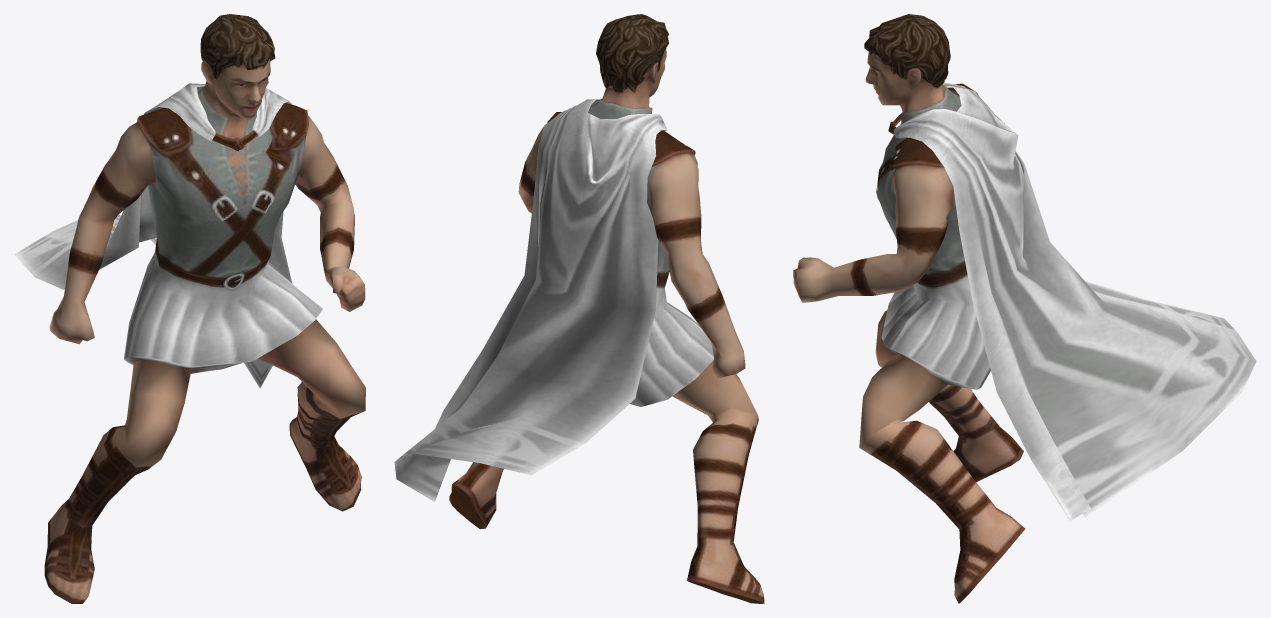
File: rider-slice-base.glb
The picture shows the model from 3 angles, left to right: view 1: azimuth 30°, elevation 25°; view 2: azimuth 150°, elevation 25°; view 3: azimuth 270°, elevation 25°; orthographic projection. The views are drawn at different scales.
Bounding box in the file's own units: 1.14 × 1.94 × 1.51.
1 material, 1 textured.
